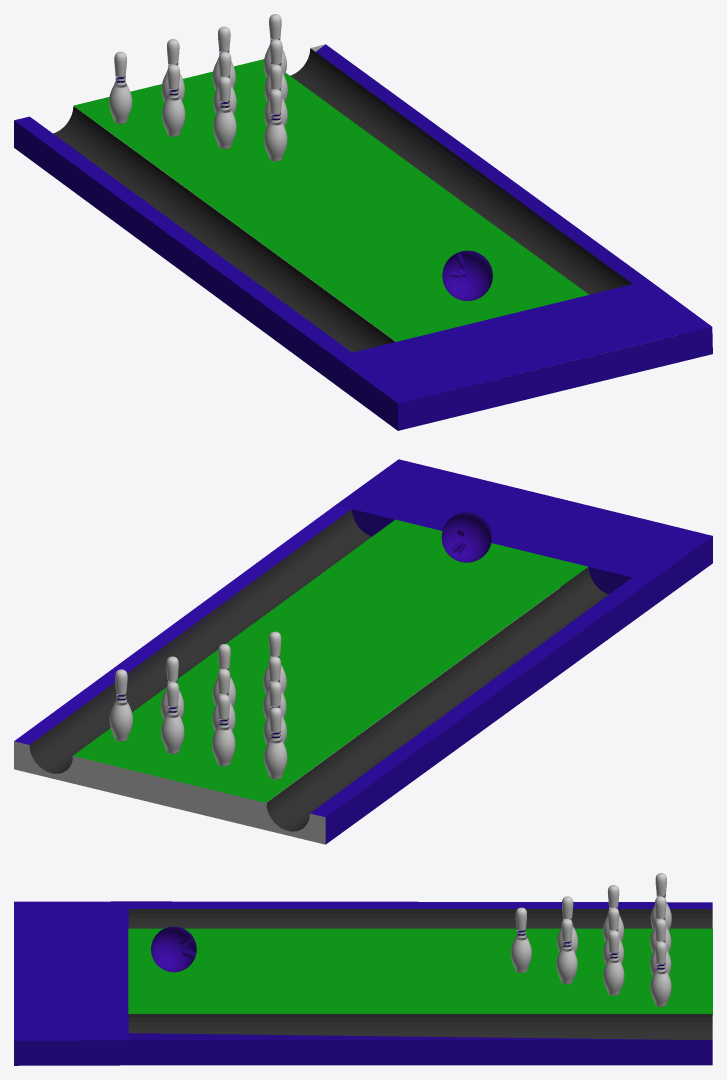
File: BowlingSetup.obj
The picture shows the model from 3 angles, top to bottom: view 1: azimuth 30°, elevation 25°; view 2: azimuth 150°, elevation 25°; view 3: azimuth 270°, elevation 25°; orthographic projection. The views are drawn at different scales.
Parts seen in each view (by area): view 1: Alley_Cylinder.003, Bowling_Ball_Icosphere, Pin4_Mesh.006, Pin2_Mesh.005, Pin1_Mesh.004, Pin7_Mesh.001; view 2: Alley_Cylinder.003, Bowling_Ball_Icosphere, Pin10_Mesh.007, Pin8_Mesh, Pin7_Mesh.001, Pin9_Mesh.008, Pin4_Mesh.006, Pin5_Mesh.003, Pin6_Mesh.009, Pin1_Mesh.004; view 3: Alley_Cylinder.003, Bowling_Ball_Icosphere, Pin3_Mesh.002, Pin6_Mesh.009, Pin10_Mesh.007, Pin1_Mesh.004, Pin9_Mesh.008, Pin7_Mesh.001, Pin2_Mesh.005, Pin5_Mesh.003, Pin8_Mesh, Pin4_Mesh.006.
Part boxes in pixels (box(x1,y1,x2,y2)): Alley_Cylinder.003: box(14, 44, 712, 430); Bowling_Ball_Icosphere: box(442, 250, 492, 300); Pin4_Mesh.006: box(162, 64, 185, 136); Pin2_Mesh.005: box(213, 76, 236, 148); Pin1_Mesh.004: box(264, 89, 287, 161); Pin7_Mesh.001: box(109, 51, 132, 123); Alley_Cylinder.003: box(14, 459, 712, 844); Bowling_Ball_Icosphere: box(441, 512, 491, 562); Pin10_Mesh.007: box(109, 669, 132, 741); Pin8_Mesh: box(212, 694, 235, 766); Pin7_Mesh.001: box(264, 707, 287, 779); Pin9_Mesh.008: box(161, 681, 184, 753); Pin4_Mesh.006: box(263, 681, 286, 744); Pin5_Mesh.003: box(212, 669, 235, 731); Pin6_Mesh.009: box(160, 656, 183, 719); Pin1_Mesh.004: box(263, 631, 286, 694); Alley_Cylinder.003: box(14, 901, 712, 1065); Bowling_Ball_Icosphere: box(151, 926, 196, 972); Pin3_Mesh.002: box(556, 918, 577, 984); Pin6_Mesh.009: box(603, 930, 624, 995); Pin10_Mesh.007: box(650, 941, 671, 1006); Pin1_Mesh.004: box(510, 907, 531, 972); Pin9_Mesh.008: box(650, 918, 671, 975); Pin7_Mesh.001: box(650, 873, 671, 930); Pin2_Mesh.005: box(557, 896, 578, 953); Pin5_Mesh.003: box(603, 907, 623, 964); Pin8_Mesh: box(650, 896, 671, 952); Pin4_Mesh.006: box(603, 885, 623, 941).
Bounding box in the file's own units: 18.03 × 5.34 × 38.26.
